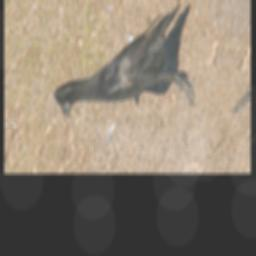Crow: (46, 0, 225, 132)
